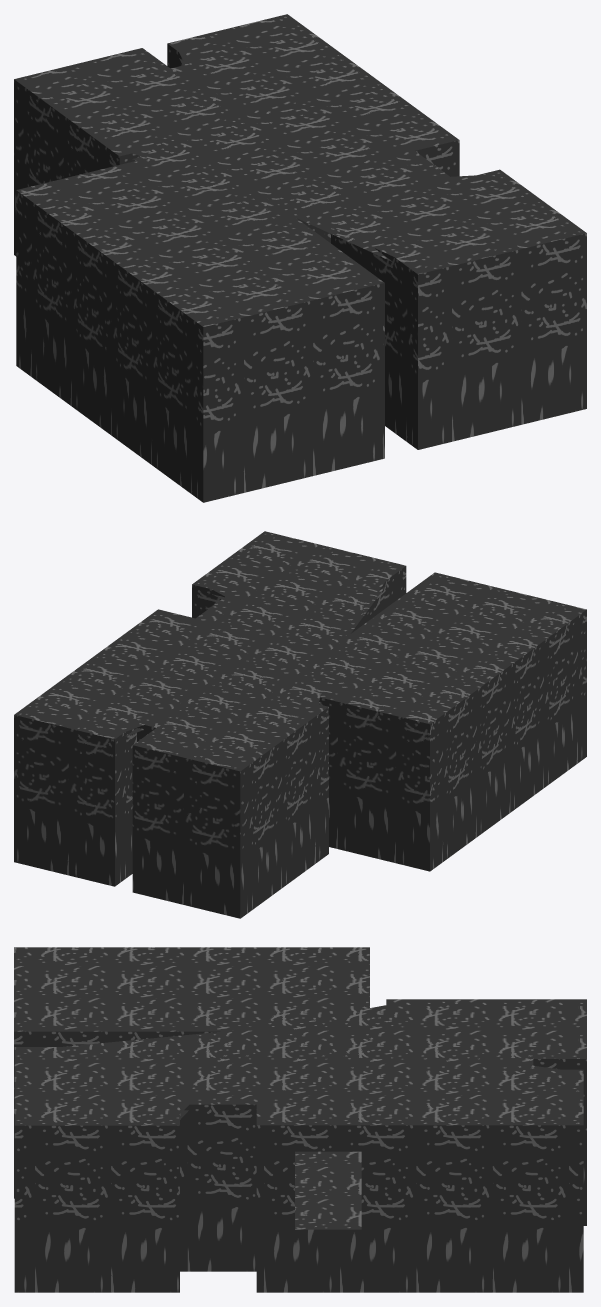
Rendered from OldBaseGelpi.obj.
The picture shows the model from 3 angles, top to bottom: view 1: azimuth 30°, elevation 25°; view 2: azimuth 150°, elevation 25°; view 3: azimuth 270°, elevation 25°; orthographic projection. The views are drawn at different scales.
Visible parts, largest first — view 1: Cube; view 2: Cube; view 3: Cube.
Part boxes in pixels (left/top/right/bottom): Cube: left=14, top=14, right=586, bottom=502; Cube: left=14, top=531, right=586, bottom=918; Cube: left=14, top=947, right=586, bottom=1292.
Size of the model in its own units: 21.36 by 9.34 by 29.03.
